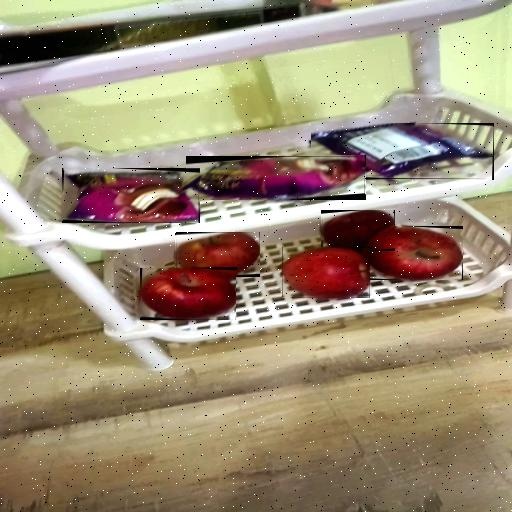Apple: (363, 226, 463, 280), (141, 268, 235, 320), (282, 247, 370, 297), (176, 233, 260, 276), (322, 210, 395, 251)
Choco Pie: (311, 124, 493, 179), (186, 157, 365, 199), (63, 170, 198, 223)
